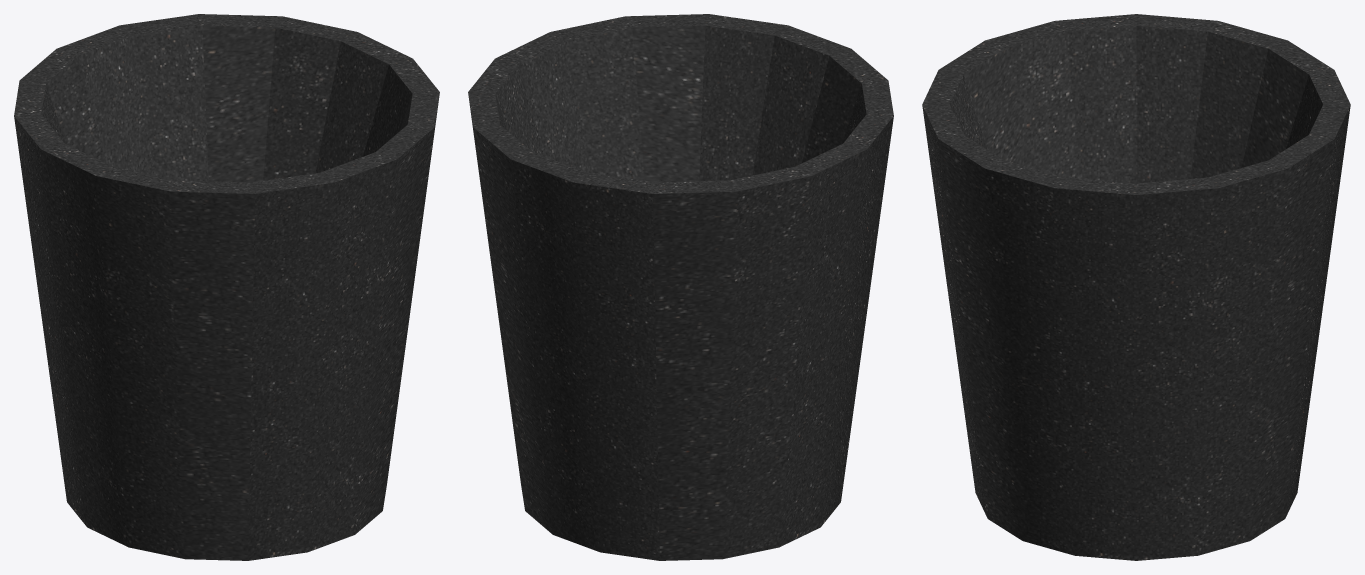
The model's file is Trash_Can.fbx.
3 renders of one model, left to right at view 1: azimuth 30°, elevation 25°; view 2: azimuth 150°, elevation 25°; view 3: azimuth 270°, elevation 25°, orthographic.
Visible parts, largest first — view 1: Trash_can; view 2: Trash_can; view 3: Trash_can.
Boxes of the visible parts, x1,y1,x2,y2 form: Trash_can: [14, 14, 439, 560]; Trash_can: [468, 14, 893, 560]; Trash_can: [922, 14, 1350, 560].
Size of the model in its own units: 39.47 by 39.47 by 39.47.
